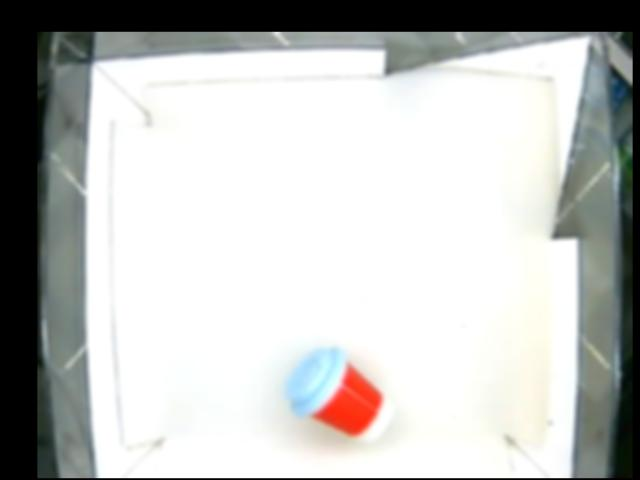Cup: (284, 345, 391, 441)
